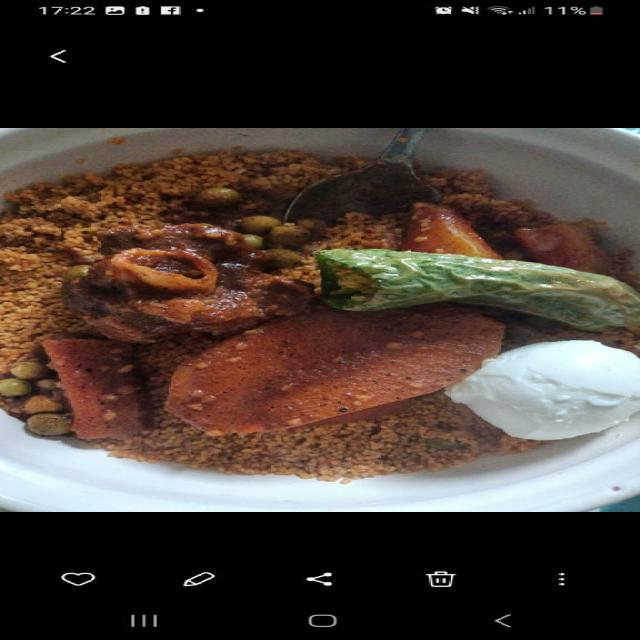Couscous: (2, 139, 638, 493)
